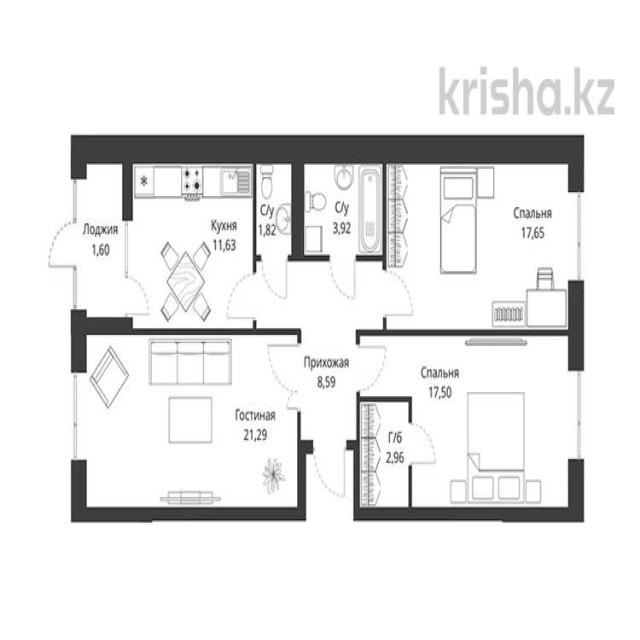balcony: (75, 152, 126, 316), (303, 304, 356, 438)
bathroom: (300, 157, 386, 253), (258, 157, 290, 259)
kitchen: (132, 156, 254, 322)
living_room: (79, 334, 300, 511), (390, 157, 580, 321), (413, 334, 576, 500)
other: (358, 401, 410, 510)
